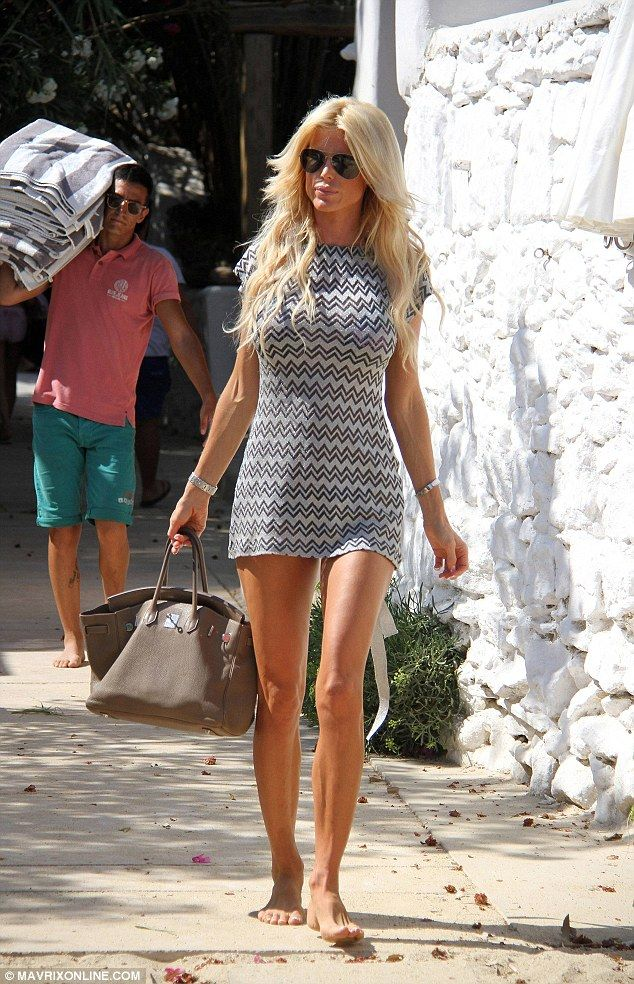Person: (168, 91, 478, 953), (8, 118, 224, 672)
